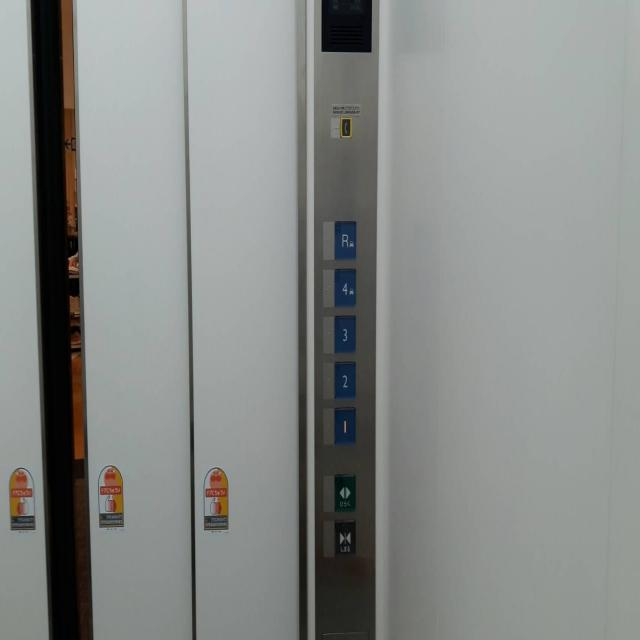1: (334, 406, 356, 444)
2: (333, 361, 355, 398)
3: (333, 314, 356, 353)
4: (333, 267, 356, 307)
R: (334, 220, 356, 260)
call: (340, 117, 352, 138)
close: (334, 518, 356, 557)
open: (334, 474, 356, 512)
